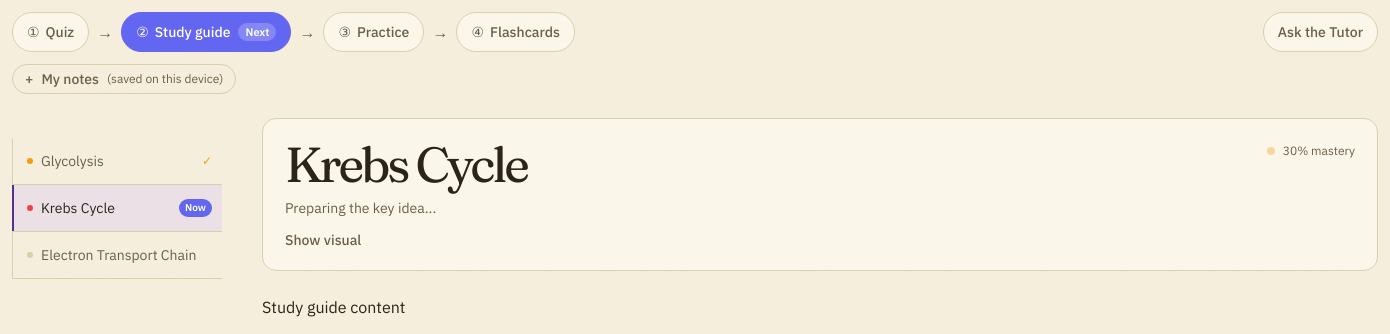
it: MaterialWorkspace › clicking a step shows that step directly
This screenshot has width=1390, height=334.
Click the button "④ Flashcards" at coordinates (516, 32), box [456,12,575,52]
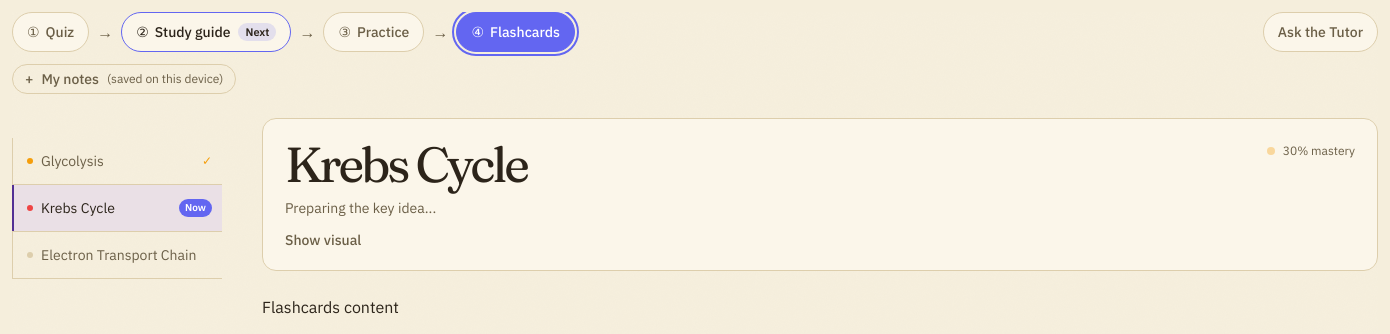
Result: the text "Flashcards content" is shown at [262,297,399,317]
Result: the text "Study guide content" is gone
